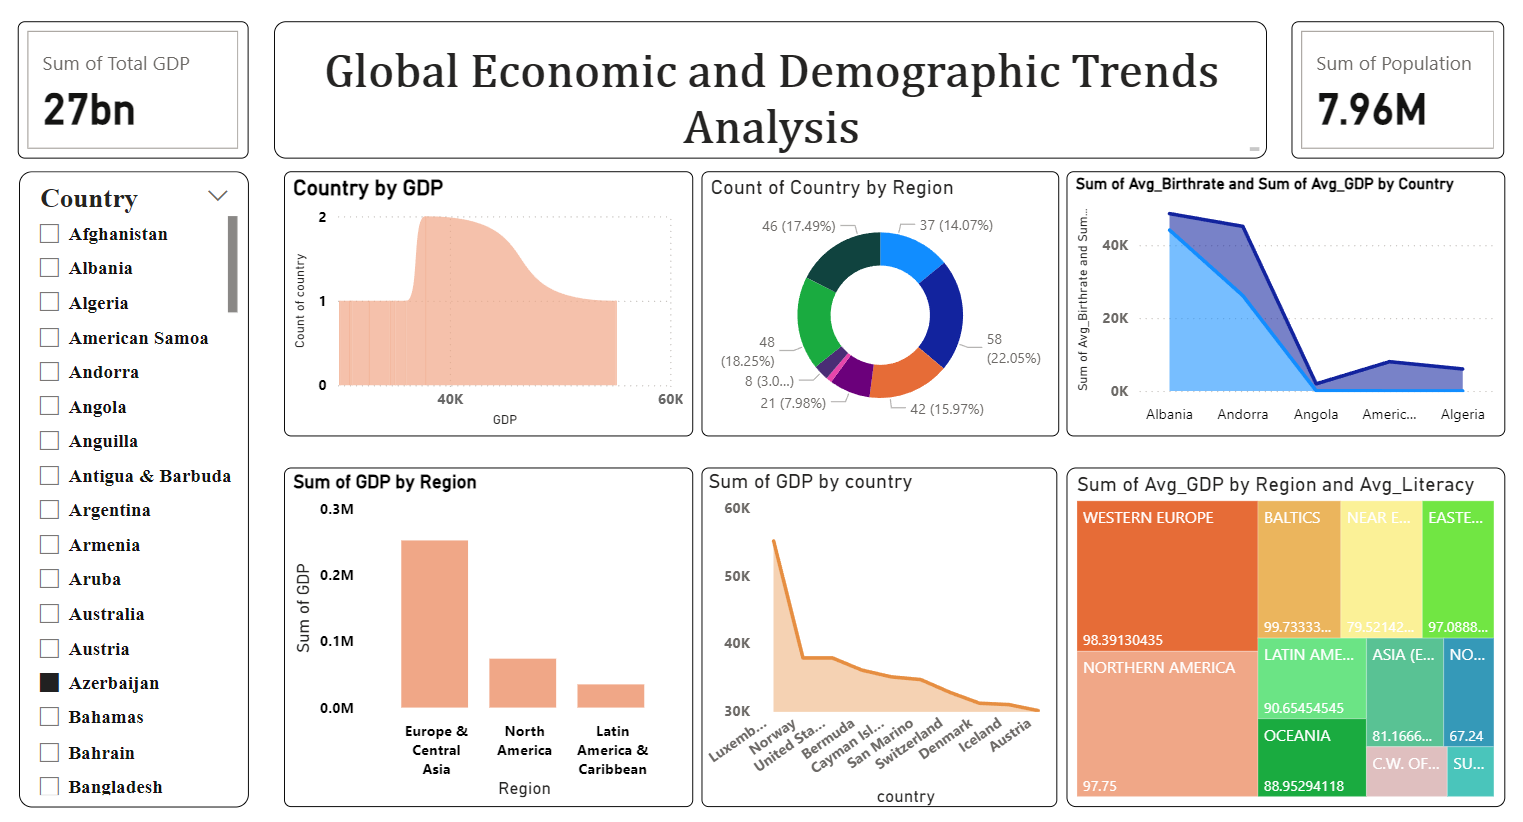

Layout of this report page (visuals, bound fields, positions):
{"tool":"powerbi","page":{"name":"Page 1","canvas":[1280,720],"ordinal":0},"visuals":[{"type":"ribbonChart","title":"Country by GDP","fields":{"Category":["Top_10_Countries_by_GDP.GDP_per_Capita"],"Y":["CountNonNull(Top_10_Countries_by_GDP.country)"]},"box":[239.1,156.2,342.8,222.2],"z":0},{"type":"cardVisual","fields":{"Data":["Sum(countries of the world.Population)"]},"box":[1084.4,30.1,178.4,115.3],"z":1000},{"type":"columnChart","fields":{"Category":["Meta Data.Region"],"Y":["Sum(Top_10_Countries_by_GDP.GDP)"]},"box":[239.1,404.7,342.8,285.1],"z":2000},{"type":"stackedAreaChart","fields":{"Category":["Top_10_Countries_by_GDP.country"],"Y":["Sum(Top_10_Countries_by_GDP.GDP)"]},"box":[589.2,404.7,298.8,285.1],"z":3000},{"type":"treemap","fields":{"Group":["Region-Wise Average Literacy an.Region"],"Details":["Region-Wise Average Literacy an.Avg_Literacy"],"Values":["Sum(Region-Wise Average Literacy an.Avg_GDP)"]},"box":[895.3,404.7,368,285.1],"z":4000},{"type":"donutChart","fields":{"Series":["Meta Data.Region"],"Y":["CountNonNull(Meta Data.Country)"]},"box":[589.2,156.2,299.8,222.2],"z":5000},{"type":"stackedAreaChart","fields":{"Category":["Country Wise Avg Top 5 Birthrat.Country"],"Y":["Sum(Country Wise Avg Top 5 Birthrat.Avg_Birthrate)","Sum(Country Wise Avg Top 5 Birthrat.Avg_GDP)"]},"box":[895.3,156.2,368,222.2],"z":6000},{"type":"cardVisual","fields":{"Data":["Sum(countries of the world.Total GDP)"]},"box":[15.9,30.1,193.5,115.3],"z":7000},{"type":"textbox","title":"Global Economic and Demographic Trends Analysis","box":[230.9,30.1,832.9,115.3],"z":8000},{"type":"slicer","fields":{"Values":["countries of the world.Country"]},"box":[16.3,155.8,193,533.7],"z":8001}]}

Visuals, with their boxes in screenshot pixels (x1, y1, x2, y2):
"Country by GDP" ribbonChart: Rect(310, 170, 710, 429)
cardVisual - Sum(countries of the world.Population): Rect(1296, 23, 1504, 158)
columnChart - Meta Data.Region x Sum(Top_10_Countries_by_GDP.GDP): Rect(310, 460, 710, 792)
stackedAreaChart - Top_10_Countries_by_GDP.country x Sum(Top_10_Countries_by_GDP.GDP): Rect(719, 460, 1067, 792)
treemap - Region-Wise Average Literacy an.Region x Region-Wise Average Literacy an.Avg_Literacy: Rect(1075, 460, 1505, 792)
donutChart - Meta Data.Region x CountNonNull(Meta Data.Country): Rect(719, 170, 1068, 429)
stackedAreaChart - Country Wise Avg Top 5 Birthrat.Country x Sum(Country Wise Avg Top 5 Birthrat.Avg_Birthrate): Rect(1075, 170, 1505, 429)
cardVisual - Sum(countries of the world.Total GDP): Rect(50, 23, 276, 158)
"Global Economic and Demographic Trends Analysis" textbox: Rect(301, 23, 1272, 158)
slicer - countries of the world.Country: Rect(51, 170, 276, 792)
